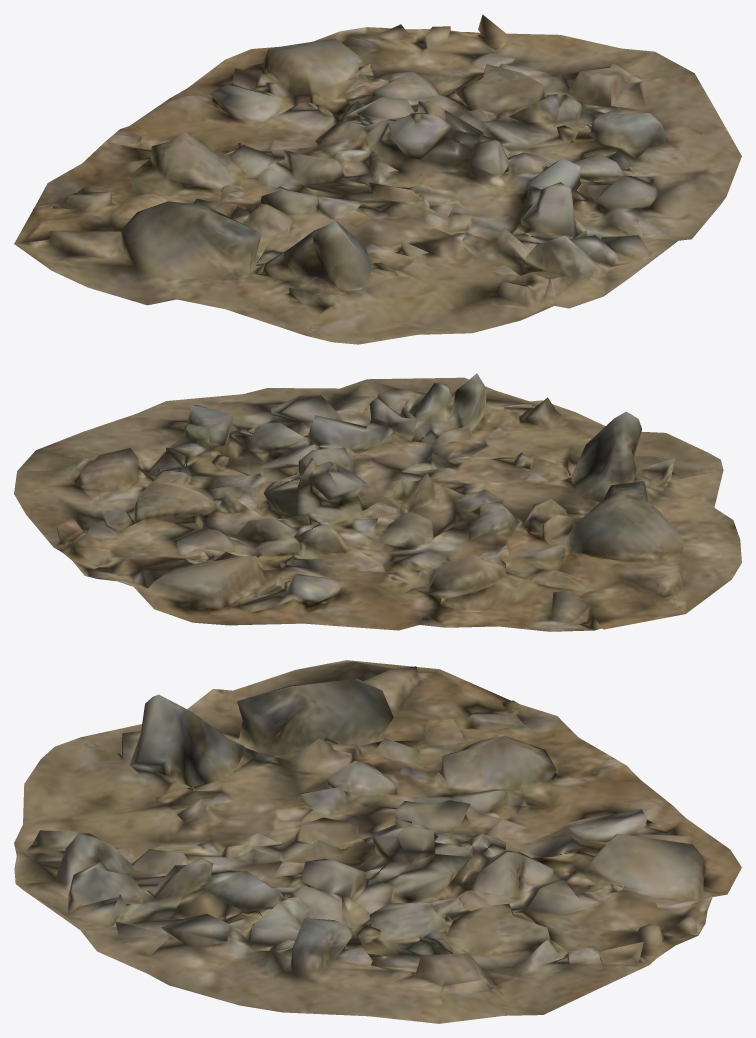
The model's file is rock-sand-small.lite.ca20898a.glb.
3 renders of one model, top to bottom at view 1: azimuth 30°, elevation 25°; view 2: azimuth 150°, elevation 25°; view 3: azimuth 270°, elevation 25°, orthographic. The views are drawn at different scales.
Visible parts, largest first — view 1: model; view 2: model; view 3: model.
Boxes of the visible parts, box(x1,y1,x2,y2) form: model: box(14, 14, 741, 344); model: box(14, 373, 741, 631); model: box(14, 660, 741, 1023).
Bounding box in the file's own units: 4.57 × 0.5349 × 3.88.
Materials: 1 (1 with a texture image).
